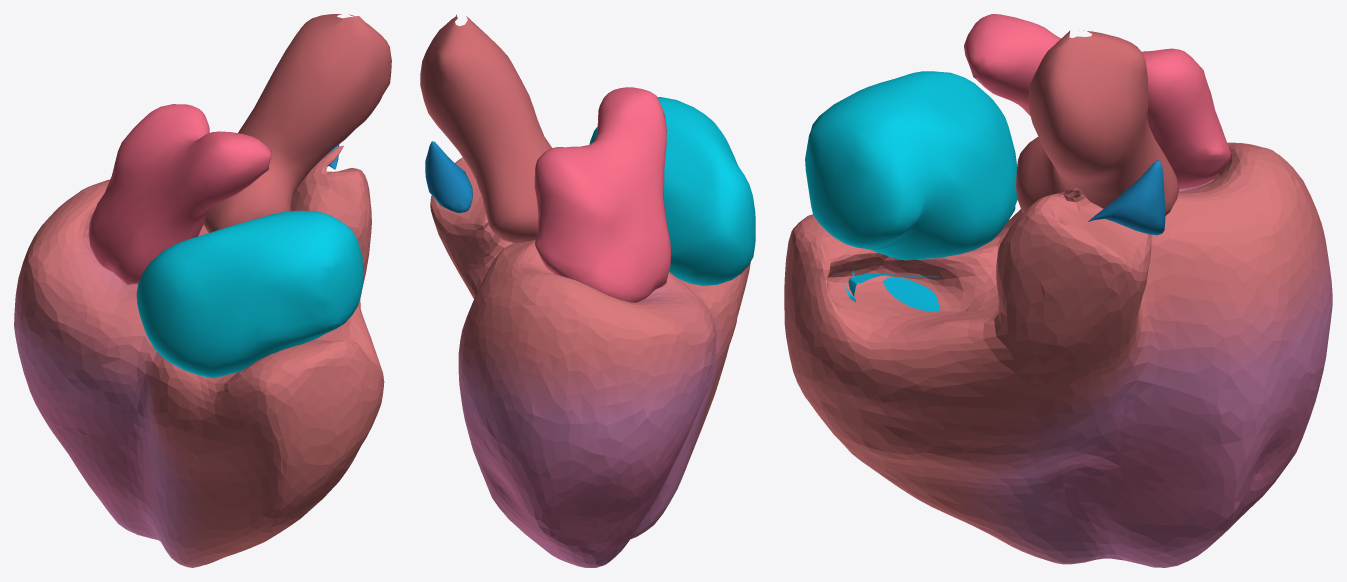
File: frame_11.glb
3 views of the same model, side by side, from view 1: azimuth 30°, elevation 25°; view 2: azimuth 150°, elevation 25°; view 3: azimuth 270°, elevation 25° (orthographic). The views are drawn at different scales.
Parts seen in each view (by area): view 1: Renderer Node; view 2: Renderer Node; view 3: Renderer Node.
Part boxes in pixels (x1,y1,x2,y2): Renderer Node: [14, 14, 391, 567]; Renderer Node: [420, 14, 755, 567]; Renderer Node: [784, 14, 1332, 567].
Bounding box in the file's own units: 103 × 157 × 124.
